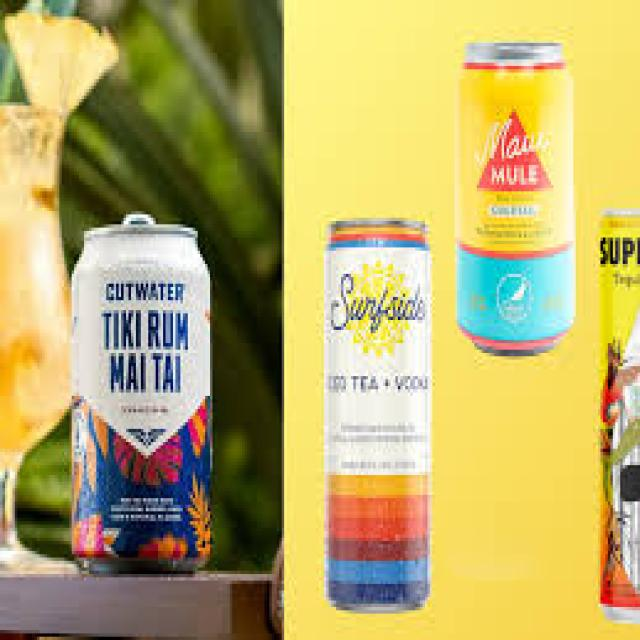Cans: (69, 211, 220, 581), (316, 211, 438, 617), (455, 33, 583, 363)
